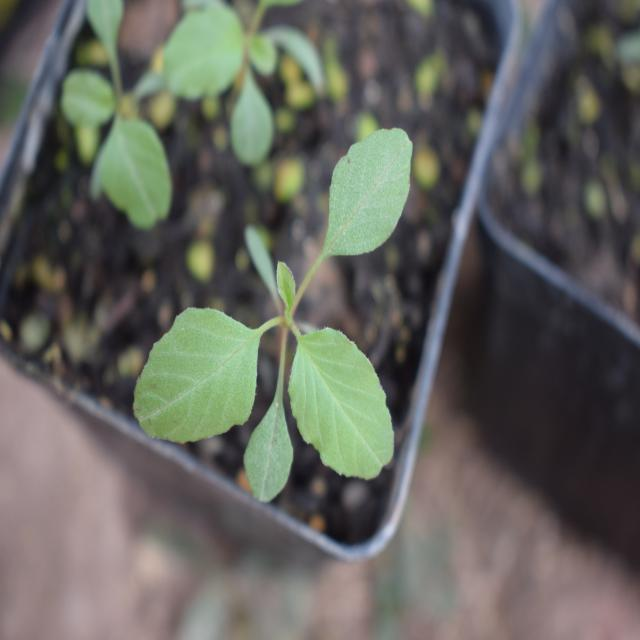pigweed: (153, 131, 453, 510)
